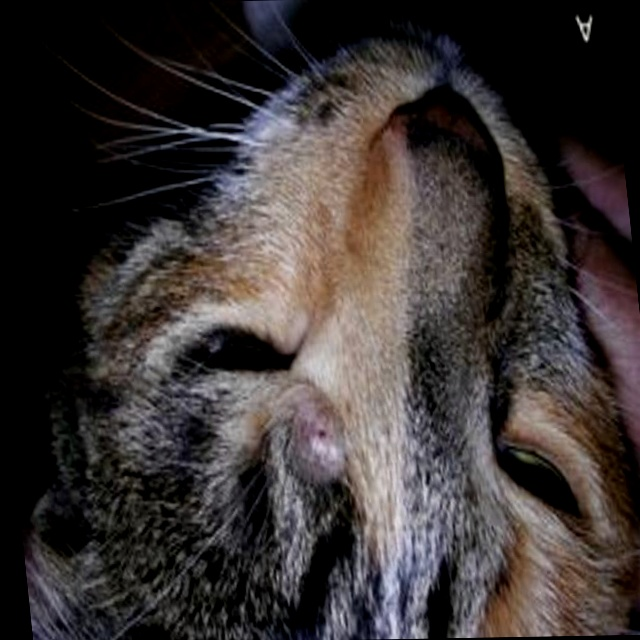lump_and_bump: (285, 398, 347, 479)
